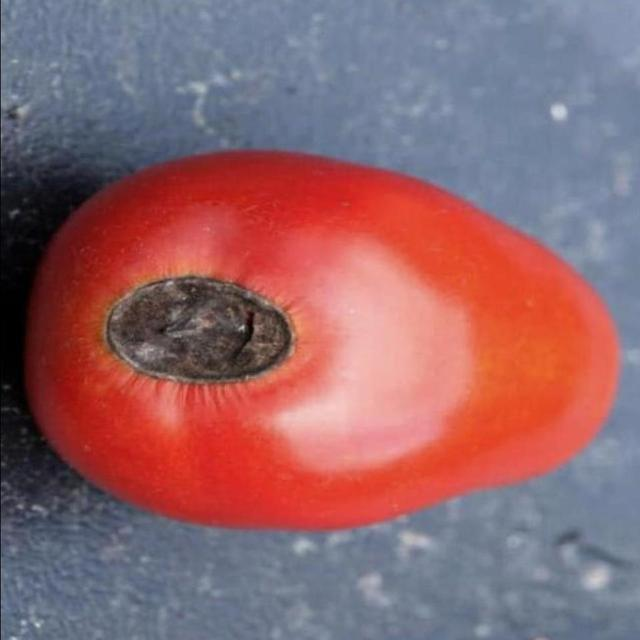Blossom End Rot Fruit: (70, 184, 203, 261)
